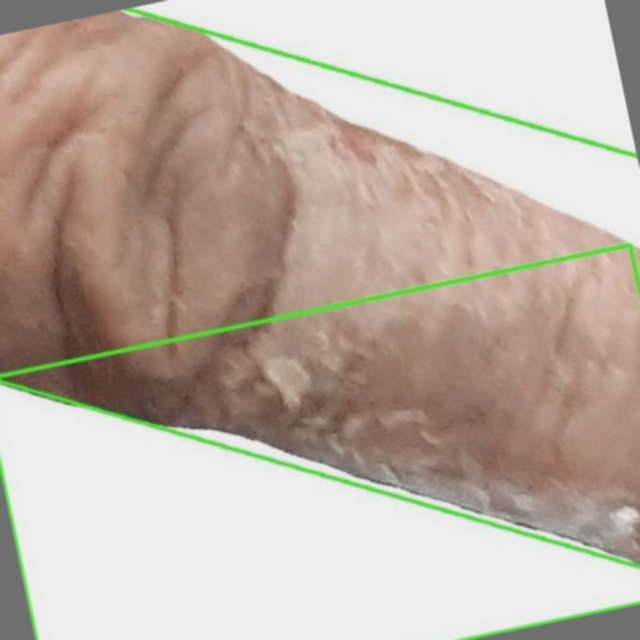Eczema: (0, 55, 639, 562), (0, 244, 639, 639)
